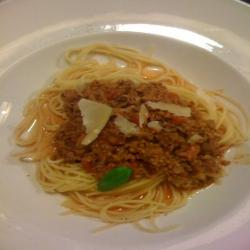bolonese_pasta: (34, 59, 222, 219)
